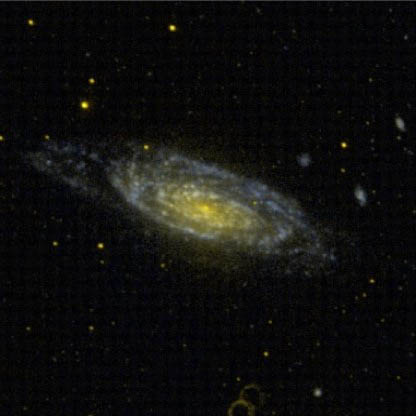NGC 3521: (44, 87, 385, 294)
